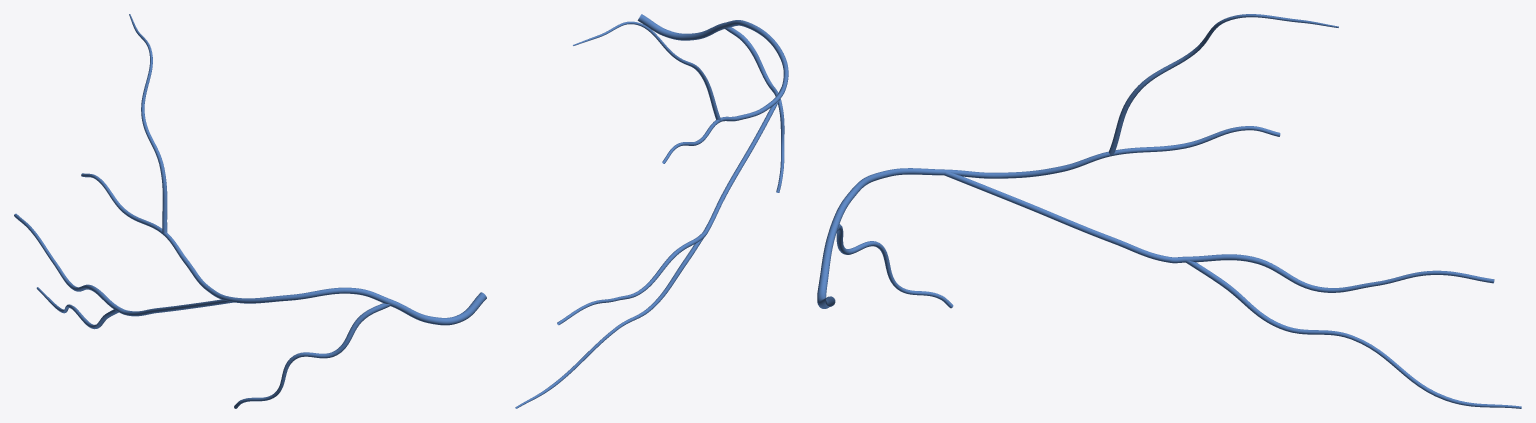
3 views of the same model, side by side, from view 1: azimuth 30°, elevation 25°; view 2: azimuth 150°, elevation 25°; view 3: azimuth 270°, elevation 25° (orthographic). The views are drawn at different scales.
Parts seen in each view (by area): view 1: 右膈上静脉; view 2: 右膈上静脉; view 3: 右膈上静脉.
Part boxes in pixels (x1,y1,x2,y2): 右膈上静脉: (14, 14, 486, 408); 右膈上静脉: (515, 14, 788, 408); 右膈上静脉: (817, 14, 1521, 408).
Bounding box in the file's own units: 0.1039 × 0.1483 × 0.2402.
